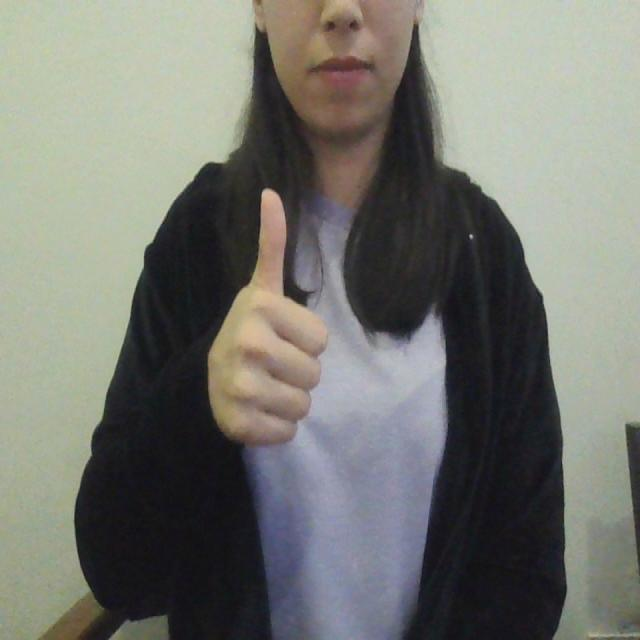Tamam: (200, 181, 333, 468)
